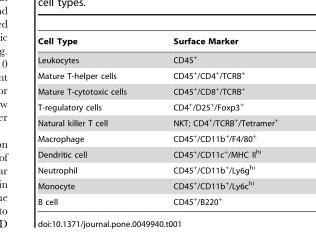table: (36, 36, 277, 206)
table column: (149, 36, 277, 206), (36, 36, 149, 206)
table column header: (36, 36, 277, 48)
table row: (36, 48, 277, 66), (36, 66, 277, 82), (36, 97, 277, 113), (36, 113, 277, 129), (36, 144, 277, 160), (36, 160, 277, 176), (36, 176, 277, 192), (36, 82, 277, 97), (36, 129, 277, 144), (36, 192, 277, 206), (36, 36, 277, 48)
